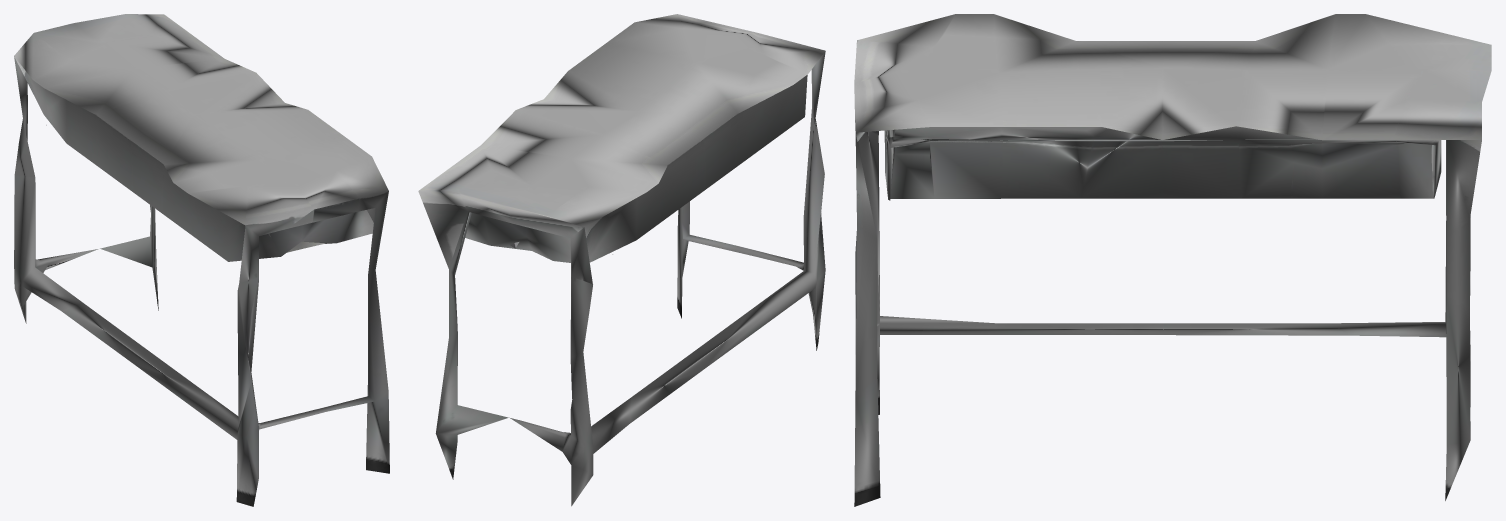
Rendered from lab-table.glb.
3 views of the same model, side by side, from view 1: azimuth 30°, elevation 25°; view 2: azimuth 150°, elevation 25°; view 3: azimuth 270°, elevation 25° (orthographic). The views are drawn at different scales.
Parts seen in each view (by area): view 1: tripo_node_a69e9de3-a106-4251-9c09-7219e573dc16; view 2: tripo_node_a69e9de3-a106-4251-9c09-7219e573dc16; view 3: tripo_node_a69e9de3-a106-4251-9c09-7219e573dc16.
Part boxes in pixels (box(x1,y1,x2,y2)): tripo_node_a69e9de3-a106-4251-9c09-7219e573dc16: box(14, 14, 389, 506); tripo_node_a69e9de3-a106-4251-9c09-7219e573dc16: box(418, 14, 825, 506); tripo_node_a69e9de3-a106-4251-9c09-7219e573dc16: box(854, 14, 1491, 506).
Bounding box in the file's own units: 0.4064 × 0.6486 × 0.9657.
1 material, 1 textured.
